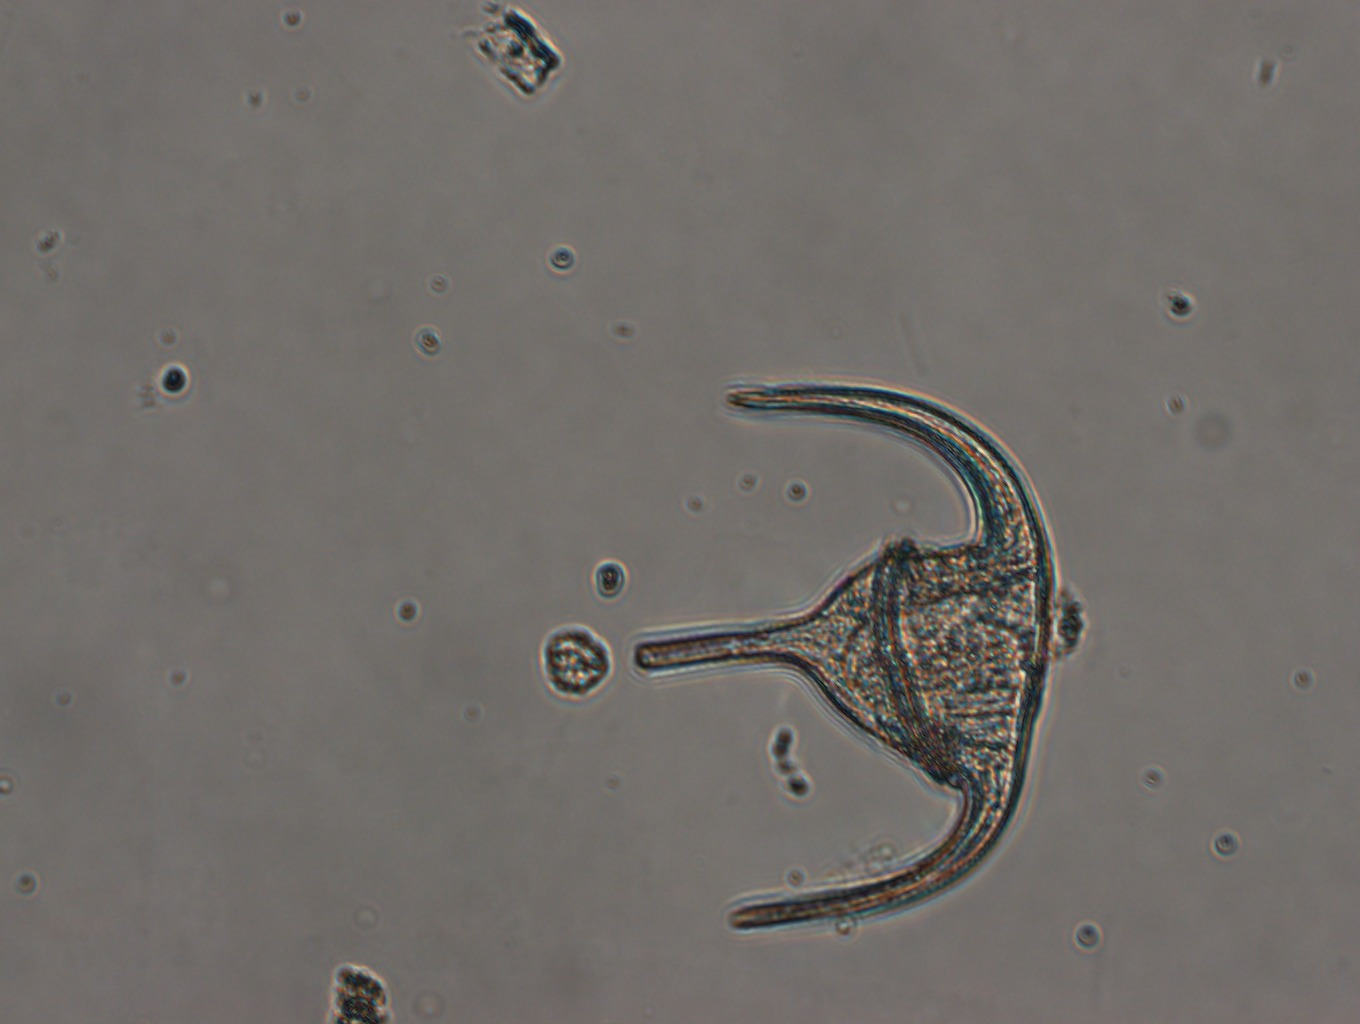ceratium tripos: (631, 380, 1056, 929)
